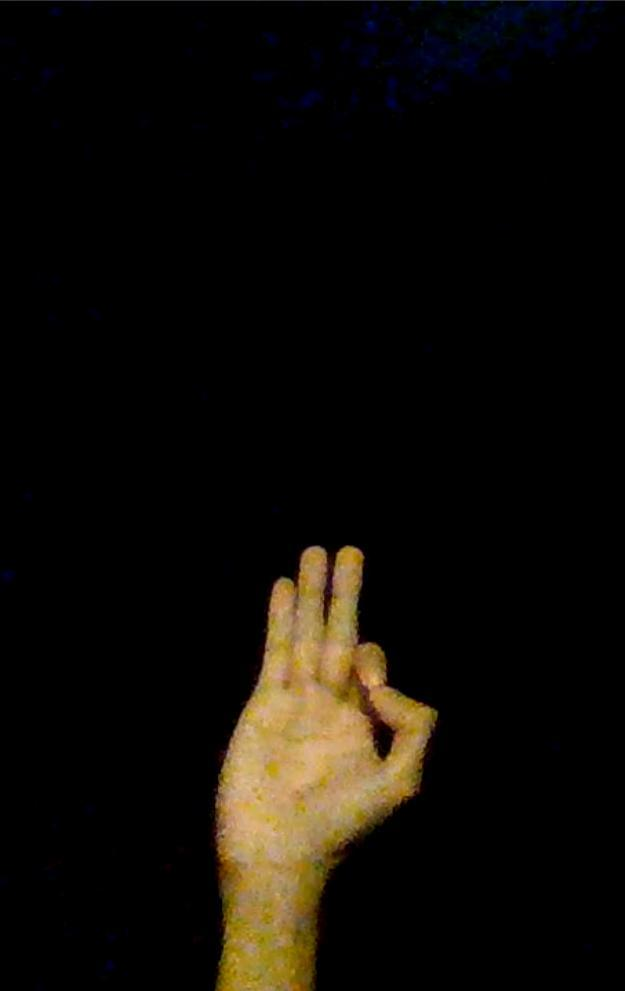f: (211, 540, 439, 879)
